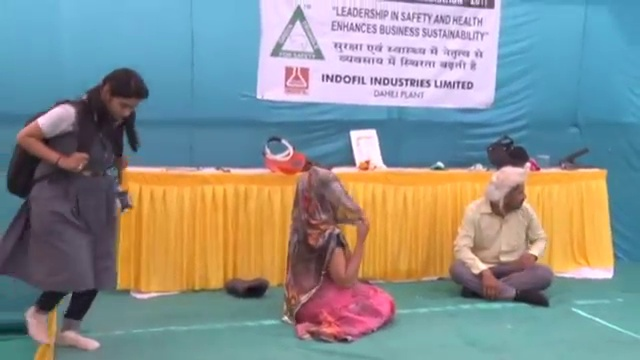helmet_off: (295, 170, 360, 225), (92, 67, 148, 123), (487, 167, 527, 215)
person: (1, 66, 148, 351), (280, 165, 400, 343), (449, 167, 556, 308)
